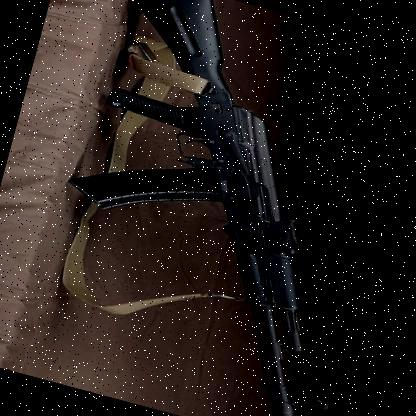rifle: (24, 0, 415, 416)
